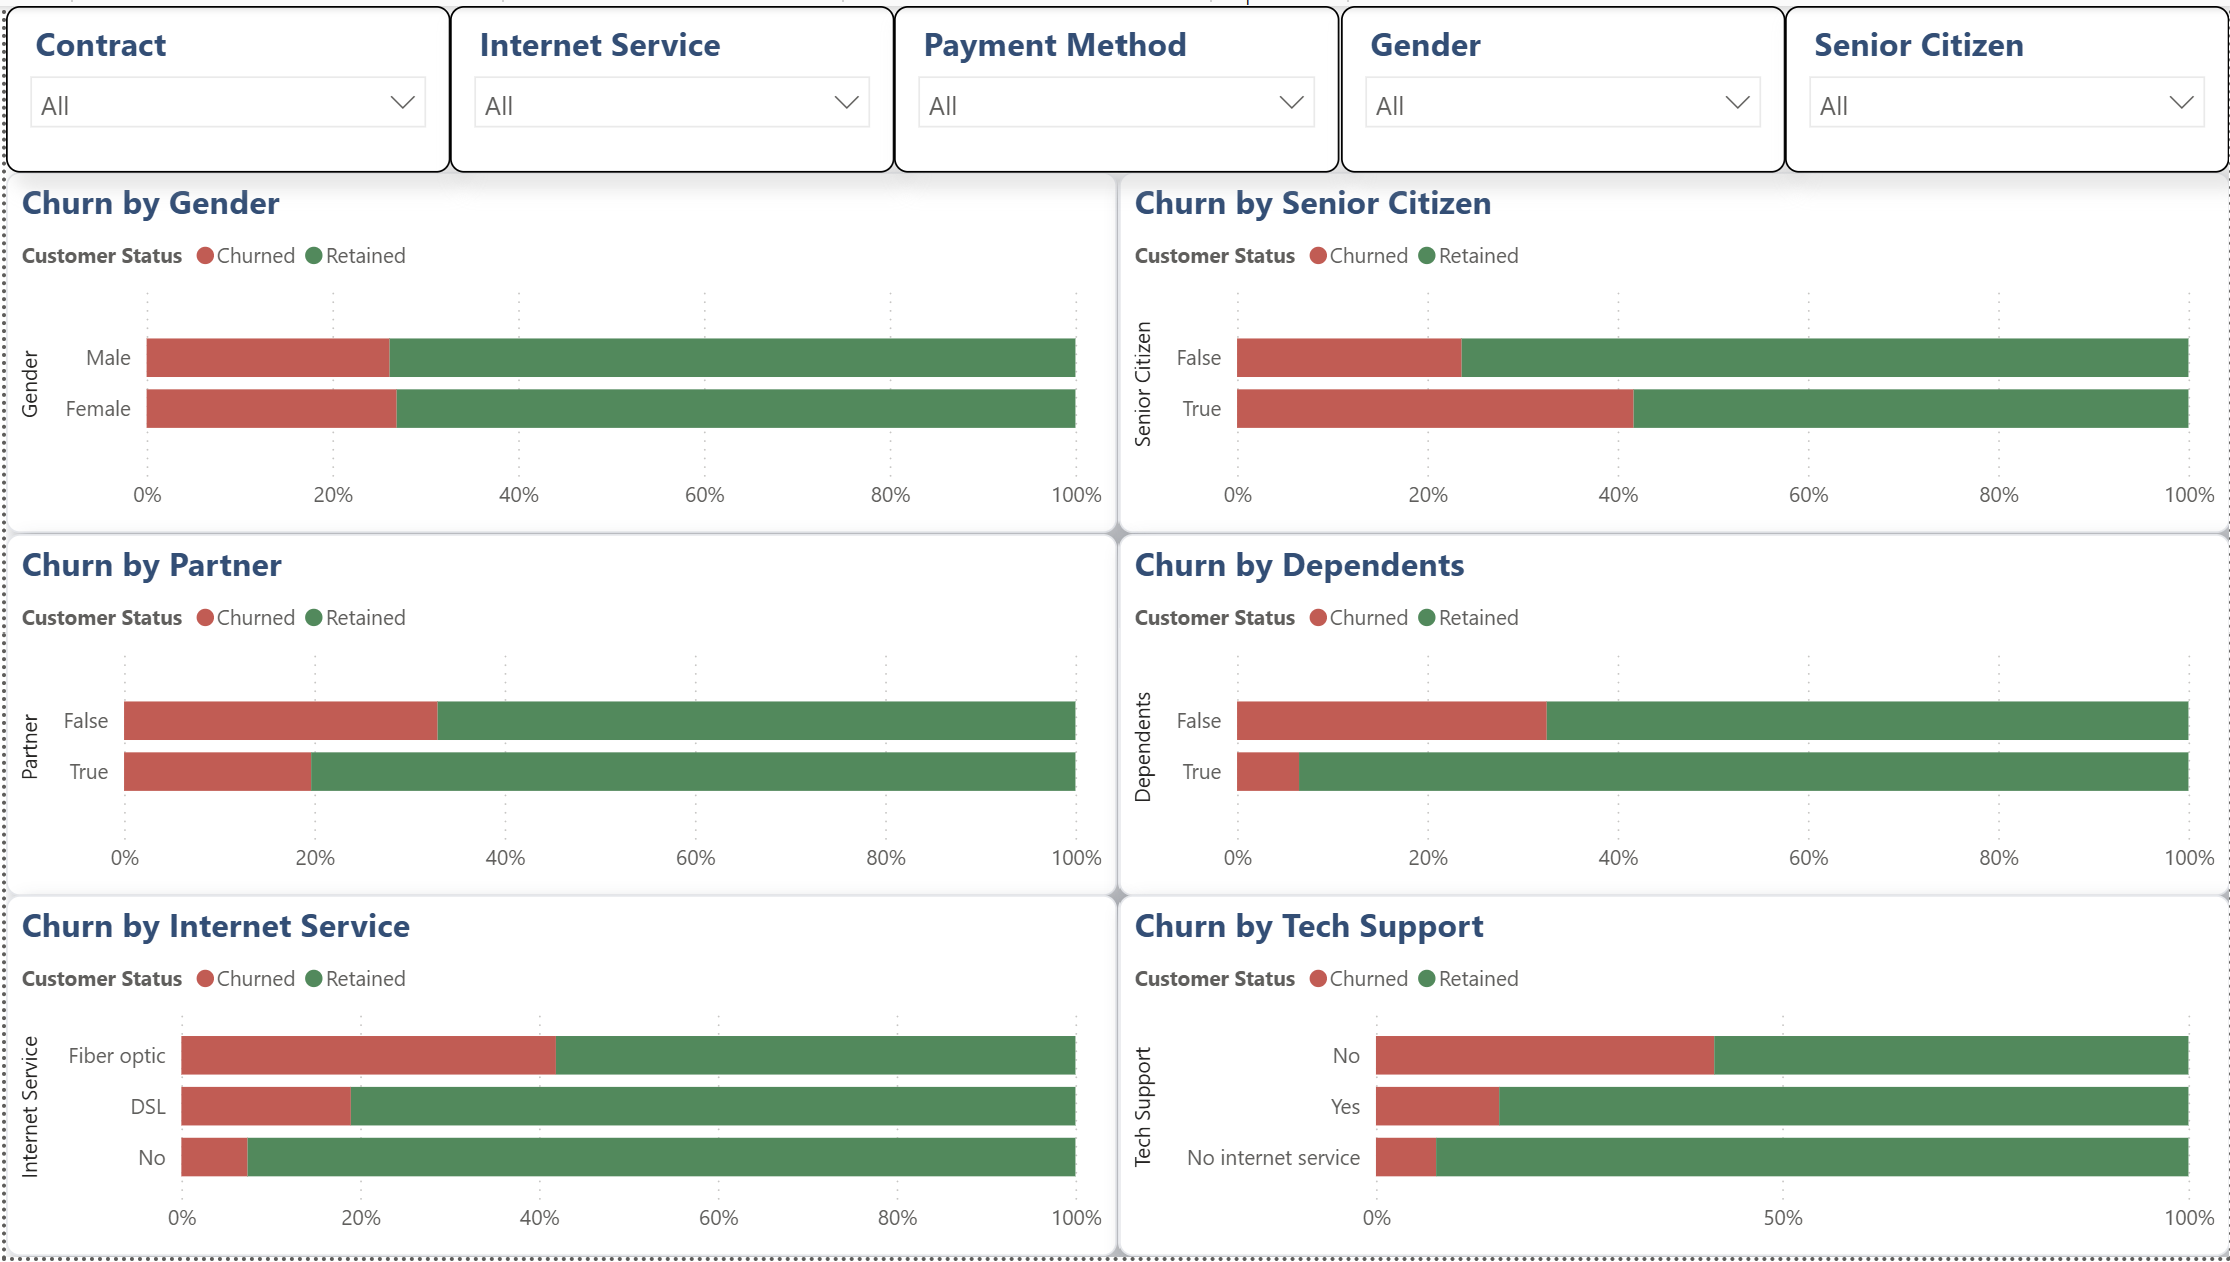

Layout of this report page (visuals, bound fields, positions):
{"tool":"powerbi","page":{"name":"Customer & Service Analysis","canvas":[1280,720],"ordinal":1},"visuals":[{"type":"hundredPercentStackedBarChart","title":"Churn by Gender","fields":{"Category":["customers.gender"],"Y":["Measures (2).Customer Count Distinct"],"Series":["churn.Customer Status"]},"box":[0,96,640,208],"z":0},{"type":"hundredPercentStackedBarChart","title":"Churn by Senior Citizen","fields":{"Category":["customers.senior_citizen"],"Y":["Measures (2).Customer Count Distinct"],"Series":["churn.Customer Status"]},"box":[640,96,640,208],"z":1},{"type":"hundredPercentStackedBarChart","title":"Churn by Partner","fields":{"Y":["Measures (2).Customer Count Distinct"],"Category":["customers.partner"],"Series":["churn.Customer Status"]},"box":[0,304,640,208],"z":2},{"type":"hundredPercentStackedBarChart","title":"Churn by Dependents","fields":{"Y":["Measures (2).Customer Count Distinct"],"Category":["customers.dependents"],"Series":["churn.Customer Status"]},"box":[640,304,640,208],"z":3},{"type":"hundredPercentStackedBarChart","title":"Churn by Internet Service","fields":{"Y":["Measures (2).Customer Count Distinct"],"Category":["services.internet_service"],"Series":["churn.Customer Status"]},"box":[0,512,640,208],"z":4},{"type":"hundredPercentStackedBarChart","title":"Churn by Tech Support","fields":{"Y":["Measures (2).Customer Count Distinct"],"Category":["services.tech_support"],"Series":["churn.Customer Status"]},"box":[640,512,640,208],"z":5},{"type":"slicer","fields":{"Values":["billing.contract"]},"box":[0,0,256,96],"z":6},{"type":"slicer","fields":{"Values":["services.internet_service"]},"box":[256,0,256,96],"z":7},{"type":"slicer","fields":{"Values":["billing.payment_method"]},"box":[512,0,256,96],"z":8},{"type":"slicer","fields":{"Values":["customers.gender"]},"box":[768,0,256,96],"z":9},{"type":"slicer","fields":{"Values":["customers.senior_citizen"]},"box":[1024,0,256,96],"z":10}]}

Visuals, with their boxes in screenshot pixels (x1, y1, x2, y2), scaled from the page's 1280x720 canvas onto the 2230x1262 screenshot:
"Churn by Gender" hundredPercentStackedBarChart: detection(0, 168, 1115, 533)
"Churn by Senior Citizen" hundredPercentStackedBarChart: detection(1115, 168, 2229, 533)
"Churn by Partner" hundredPercentStackedBarChart: detection(0, 533, 1115, 897)
"Churn by Dependents" hundredPercentStackedBarChart: detection(1115, 533, 2229, 897)
"Churn by Internet Service" hundredPercentStackedBarChart: detection(0, 897, 1115, 1261)
"Churn by Tech Support" hundredPercentStackedBarChart: detection(1115, 897, 2229, 1261)
slicer - billing.contract: detection(0, 0, 446, 168)
slicer - services.internet_service: detection(446, 0, 892, 168)
slicer - billing.payment_method: detection(892, 0, 1338, 168)
slicer - customers.gender: detection(1338, 0, 1784, 168)
slicer - customers.senior_citizen: detection(1784, 0, 2229, 168)
